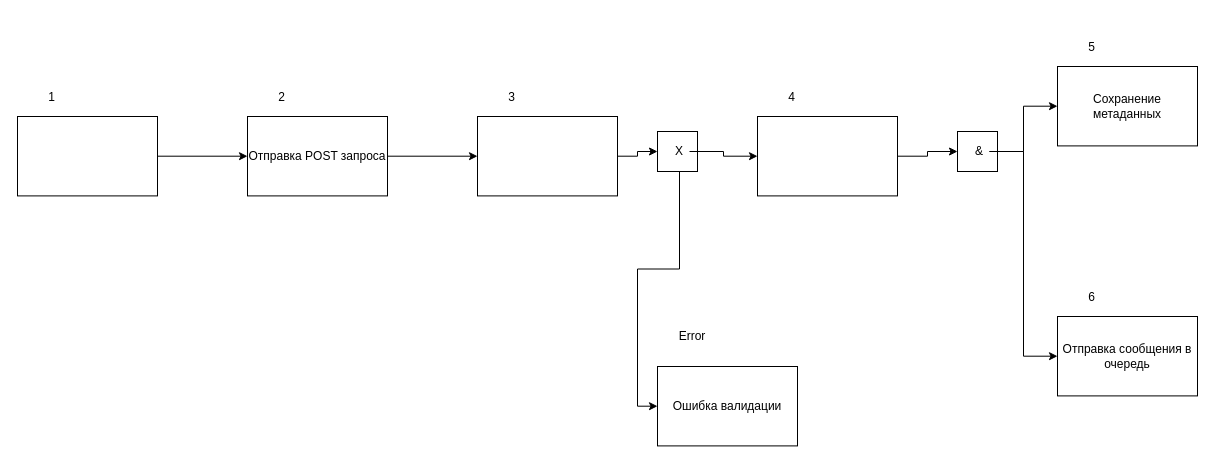
Some shapes in this 1215 by 474 pixel diagram are drawn without their labels. Each missing label, with the centre of its shape:
Валидация формата и размера: (547,156)
Выбор файлов: (87,156)
Сохранение в S3: (827,156)
